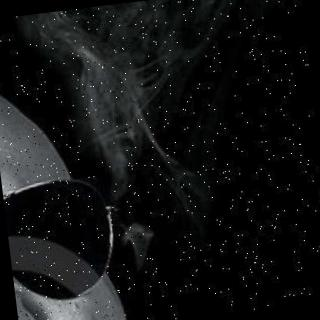smoke: (68, 14, 190, 170)
